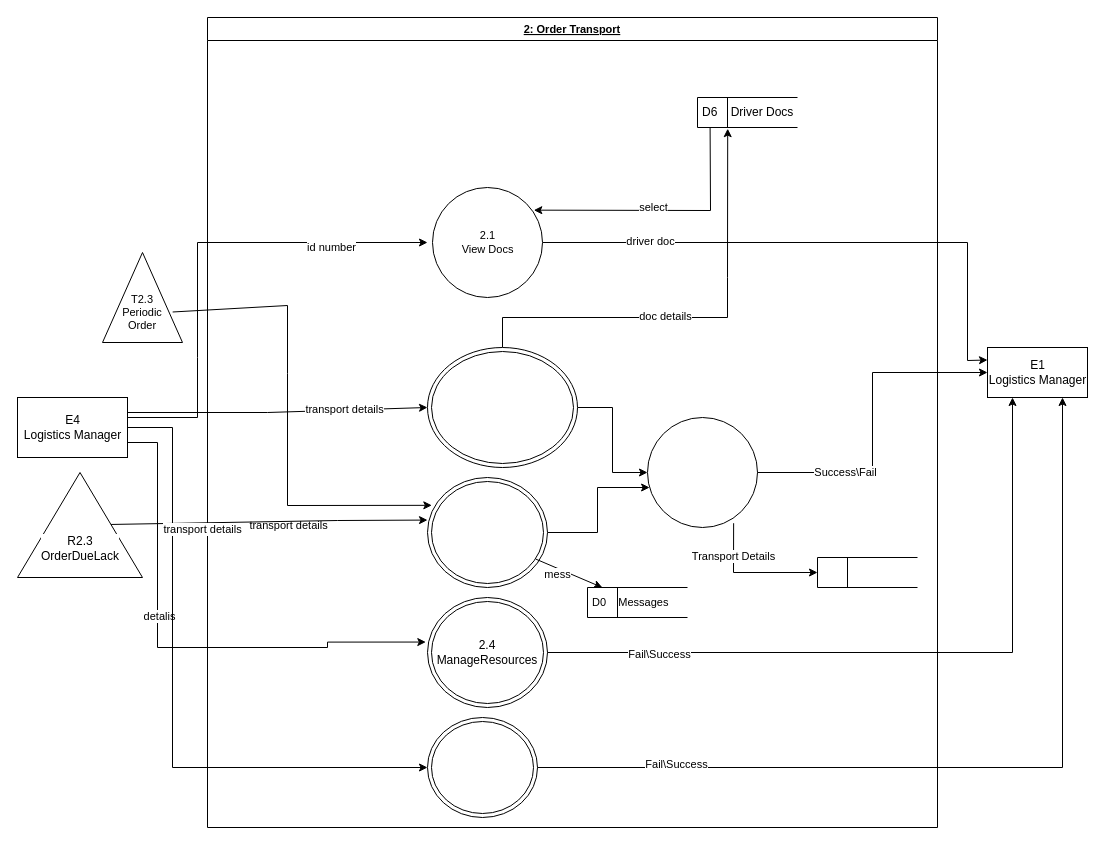
This 1105x845 diagram has some shape labels left out. Here are the shapes that lost their labels. From the top down, the centre of each, then its label:
(502,407): 2.2 CreateTransportManual
(702,472): 2.6 Create Transport Document
(487,532): 2.3 CreateTransportAuto
(867,572): D10 OrderDocs
(482,767): 2.5 Manage Transport
